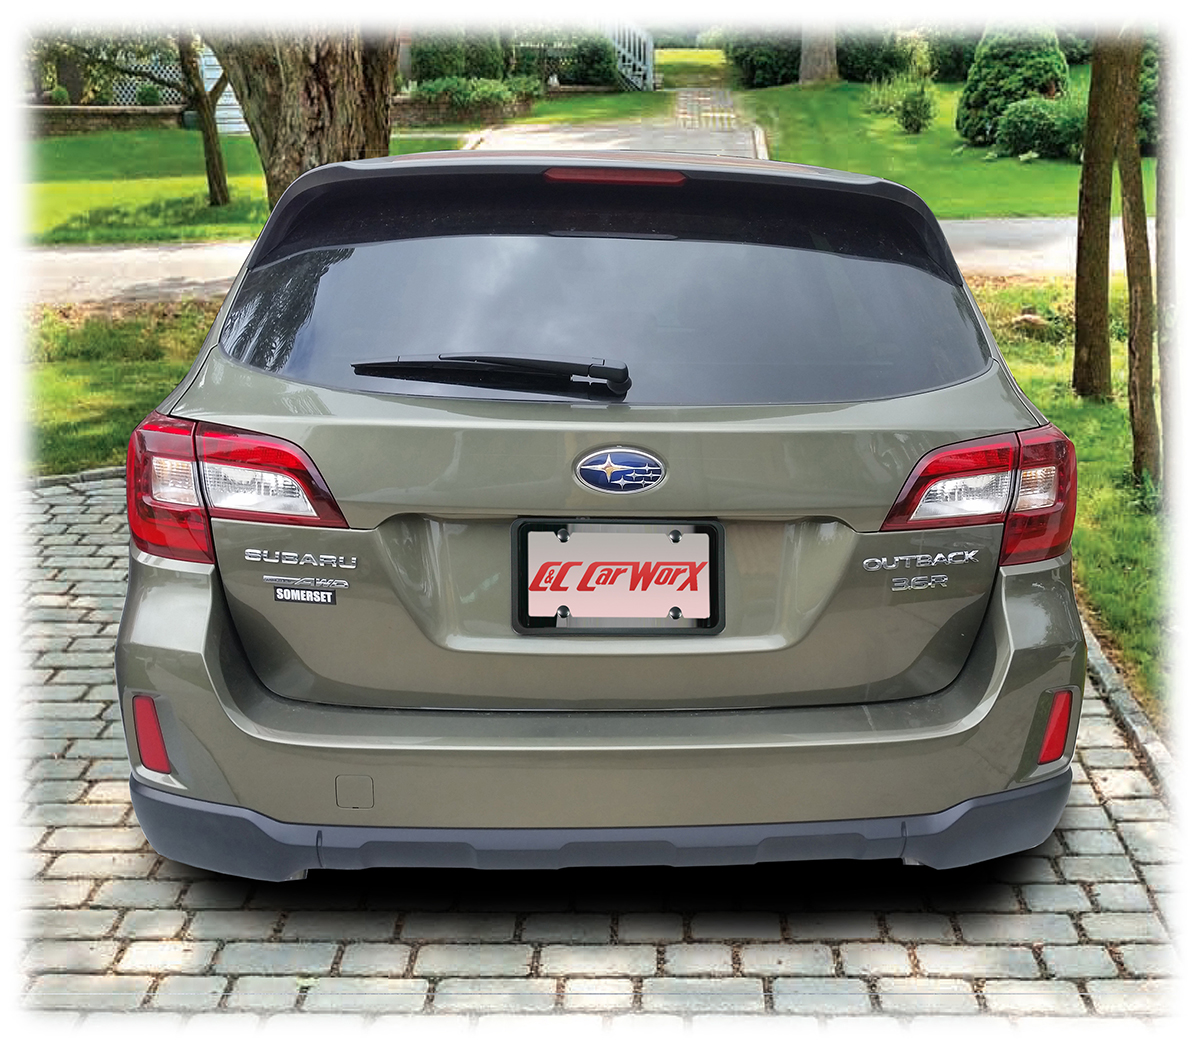license plate: (509, 515, 725, 631)
